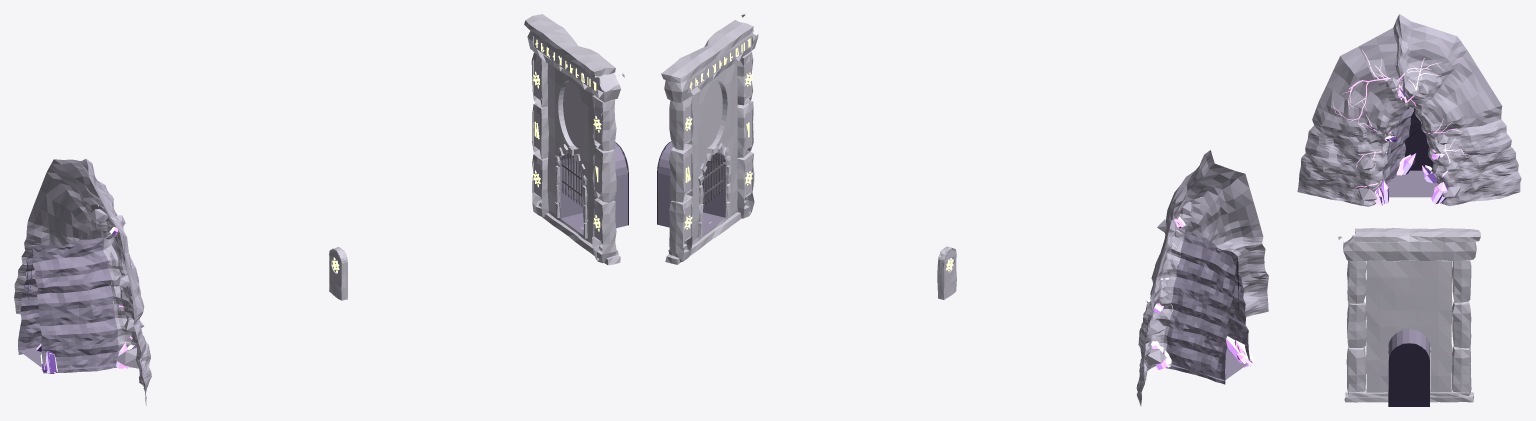
File: EntradasLobby1.glb
The picture shows the model from 3 angles, left to right: view 1: azimuth 30°, elevation 25°; view 2: azimuth 150°, elevation 25°; view 3: azimuth 270°, elevation 25°; orthographic projection. The views are drawn at different scales.
Visible parts, largest first — view 1: VigiaMoldura_1, FendaTunel_1, FendaRocha_1, VigiaCorredor_1, FendaPedras_1, VigiaPortao_1, VigiaRunas_1, EstelaSolar_2; view 2: VigiaMoldura_1, FendaRocha_1, FendaTunel_1, VigiaCorredor_1, FendaPedras_1, VigiaPortao_1, VigiaRunas_1, EstelaSolar_1; view 3: FendaRocha_1, VigiaMoldura_1, VigiaFundo_1, FendaTunel_1, FendaVeios_1, FendaChao_1, FendaPedras_1, FendaFundo_1, FendaCristalClaro_1, VigiaCorredor_1, FendaCristalEscuro_1, FendaCristalMedio_1.
Boxes of the visible parts, x1,y1,x2,y2 form: VigiaMoldura_1: (524,14,624,265); FendaTunel_1: (18,237,118,373); FendaRocha_1: (14,159,151,405); VigiaCorredor_1: (560,143,627,235); FendaPedras_1: (88,209,144,368); VigiaPortao_1: (562,153,583,207); VigiaRunas_1: (533,39,601,231); EstelaSolar_2: (329,247,347,300); VigiaMoldura_1: (661,14,758,264); FendaRocha_1: (1136,150,1268,405); FendaTunel_1: (1165,234,1249,384); VigiaCorredor_1: (657,142,725,233); FendaPedras_1: (1146,201,1192,365); VigiaPortao_1: (703,152,723,206); VigiaRunas_1: (684,38,752,229); EstelaSolar_1: (937,248,956,298); FendaRocha_1: (1297,14,1521,206); VigiaMoldura_1: (1338,228,1480,402); VigiaFundo_1: (1388,343,1429,406); FendaTunel_1: (1381,105,1433,186); FendaVeios_1: (1332,50,1473,189); FendaChao_1: (1387,170,1438,197); FendaPedras_1: (1358,77,1460,201); FendaFundo_1: (1404,108,1433,170); FendaCristalClaro_1: (1374,88,1447,205); VigiaCorredor_1: (1388,329,1429,360); FendaCristalEscuro_1: (1377,88,1447,205); FendaCristalMedio_1: (1375,89,1447,201).
Size of the model in its own units: 150 by 51.36 by 58.22.
